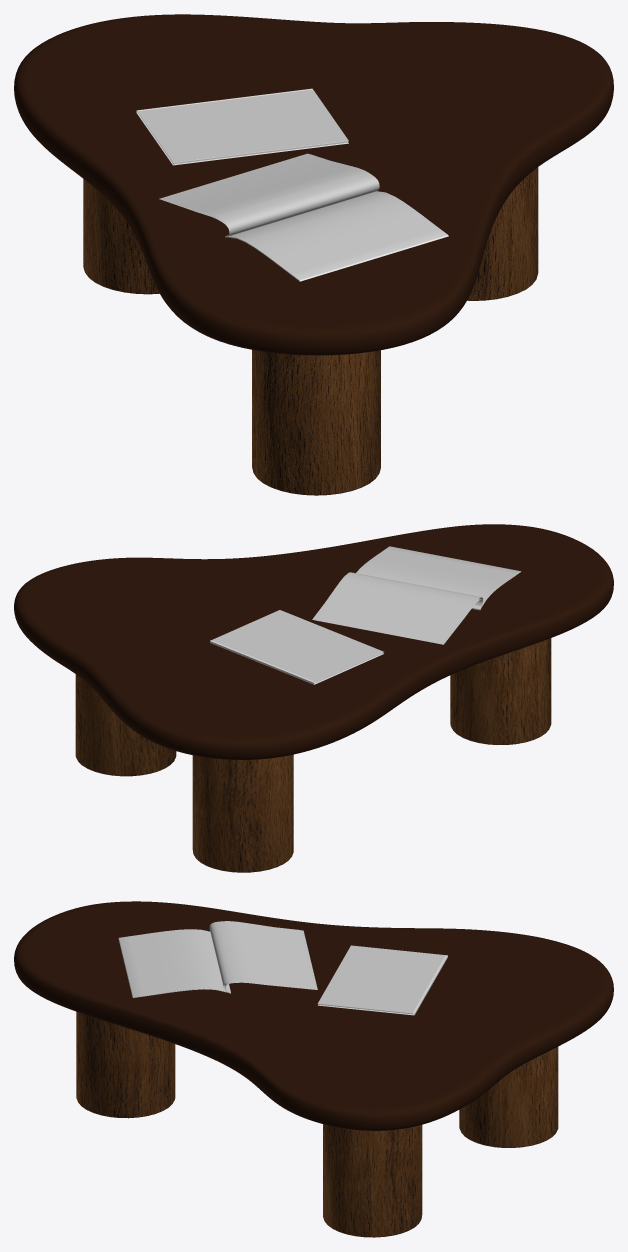
Rendered from tavolino.fbx.
3 views of the same model, one above another, from view 1: azimuth 30°, elevation 25°; view 2: azimuth 150°, elevation 25°; view 3: azimuth 270°, elevation 25° (orthographic). The views are drawn at different scales.
Parts seen in each view (by area): view 1: Plane.012, Cylinder.010, Plane.011, Plane.010; view 2: Plane.012, Cylinder.010, Plane.011, Plane.010; view 3: Plane.012, Cylinder.010, Plane.011, Plane.010.
Boxes of the visible parts, left/top/right/bottom form: Plane.012: left=14, top=14, right=613, bottom=355; Cylinder.010: left=83, top=167, right=538, bottom=495; Plane.011: left=159, top=153, right=448, bottom=281; Plane.010: left=136, top=88, right=348, bottom=165; Plane.012: left=14, top=524, right=613, bottom=759; Cylinder.010: left=75, top=638, right=551, bottom=872; Plane.011: left=312, top=546, right=521, bottom=644; Plane.010: left=210, top=610, right=383, bottom=684; Plane.012: left=14, top=901, right=613, bottom=1130; Cylinder.010: left=76, top=1011, right=558, bottom=1237; Plane.011: left=118, top=921, right=317, bottom=997; Plane.010: left=317, top=945, right=447, bottom=1015.
Bounding box in the file's own units: 140 × 49.72 × 165.
